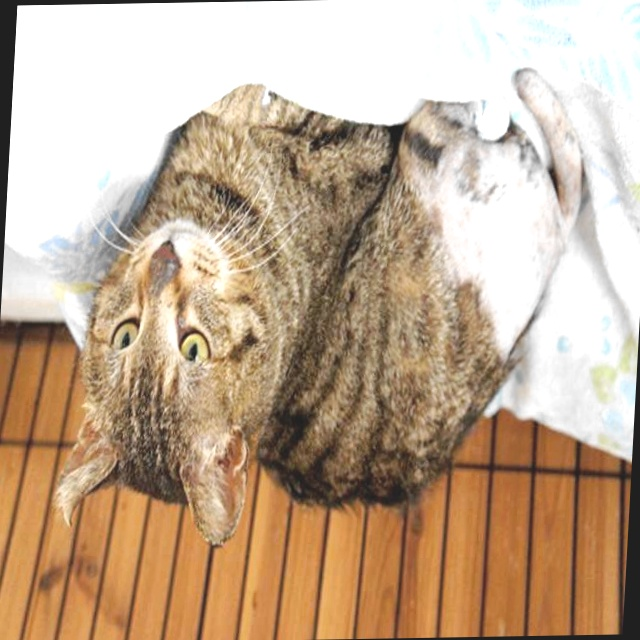hairloss: (427, 120, 568, 350)
